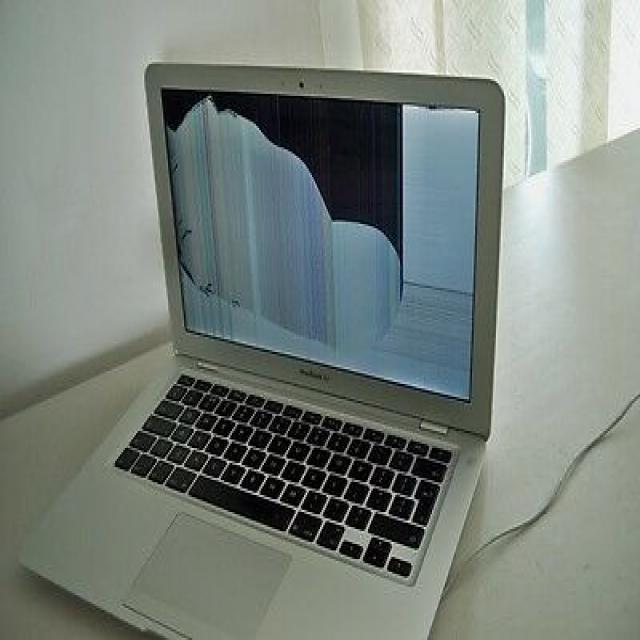Screen cracks: (157, 85, 405, 350)
